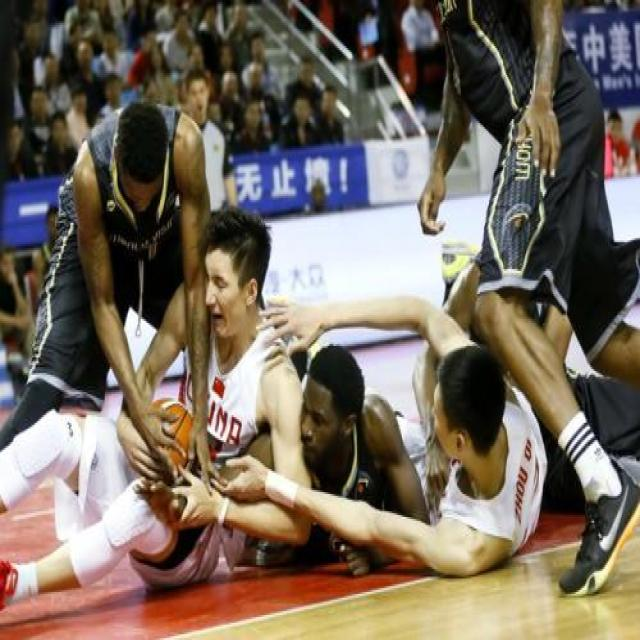10-: (6, 4, 634, 611)
down: (129, 192, 297, 513), (406, 334, 572, 606), (272, 323, 428, 530)
